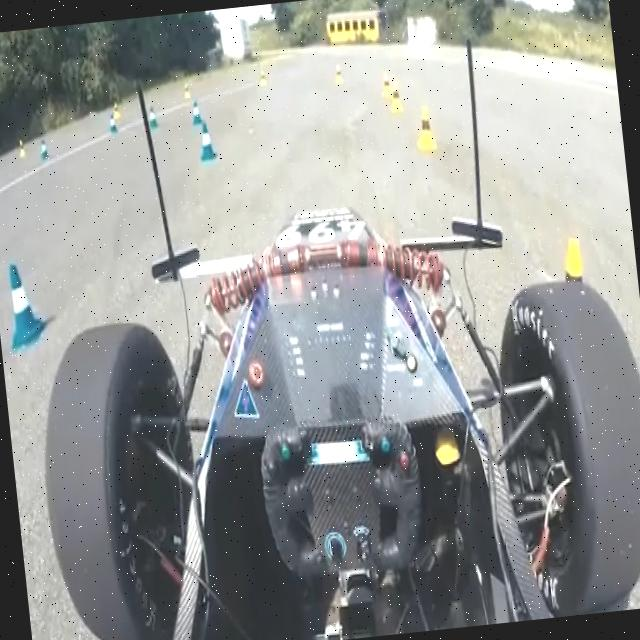blue_cone: (0, 256, 46, 352), (194, 121, 217, 163), (187, 94, 204, 128), (38, 138, 52, 164), (147, 104, 160, 130), (107, 112, 118, 135)
yellow_cone: (532, 227, 619, 462), (414, 101, 436, 156), (386, 82, 404, 120), (378, 70, 392, 98), (332, 62, 346, 86), (111, 98, 122, 121), (182, 80, 193, 102), (256, 66, 268, 86), (16, 141, 26, 160)
